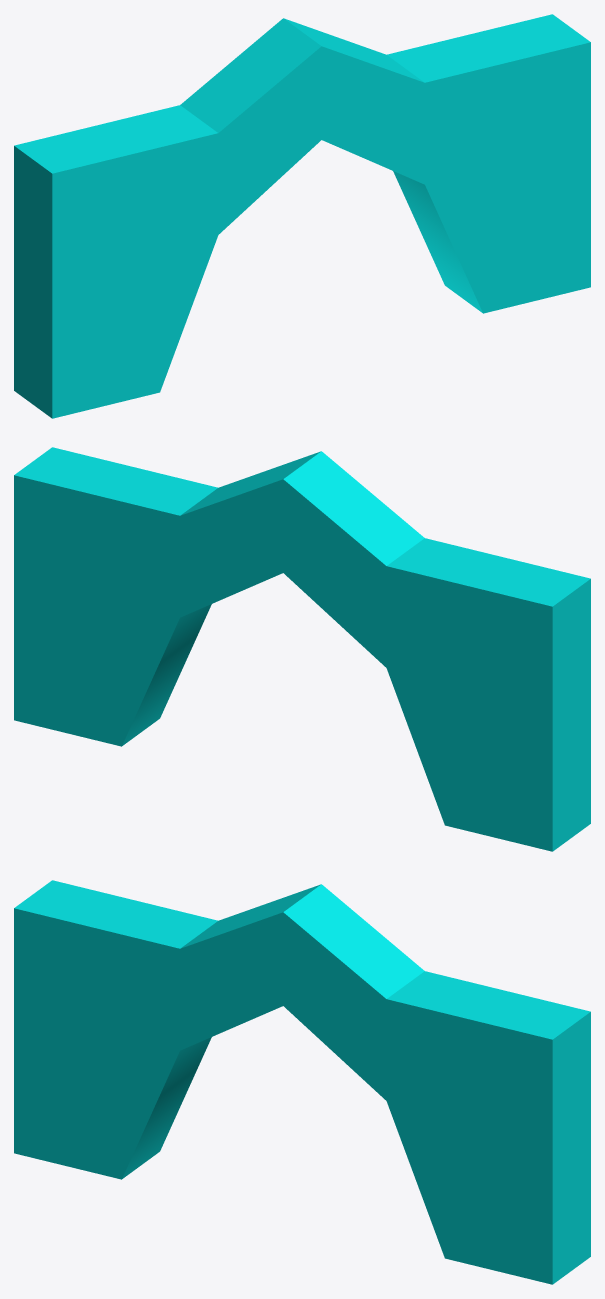
File: SM_Bld_Trim_02_Collision.fbx
The picture shows the model from 3 angles, top to bottom: view 1: azimuth 30°, elevation 25°; view 2: azimuth 150°, elevation 25°; view 3: azimuth 330°, elevation 25°; orthographic projection.
Visible parts, largest first — view 1: SM_Bld_Trim_02_Collision; view 2: SM_Bld_Trim_02_Collision; view 3: SM_Bld_Trim_02_Collision.
Part boxes in pixels (bbox=[...]): SM_Bld_Trim_02_Collision: bbox=[14, 14, 590, 418]; SM_Bld_Trim_02_Collision: bbox=[14, 447, 590, 851]; SM_Bld_Trim_02_Collision: bbox=[14, 880, 590, 1284].
Bounding box in the file's own units: 250 × 136 × 30.83.
